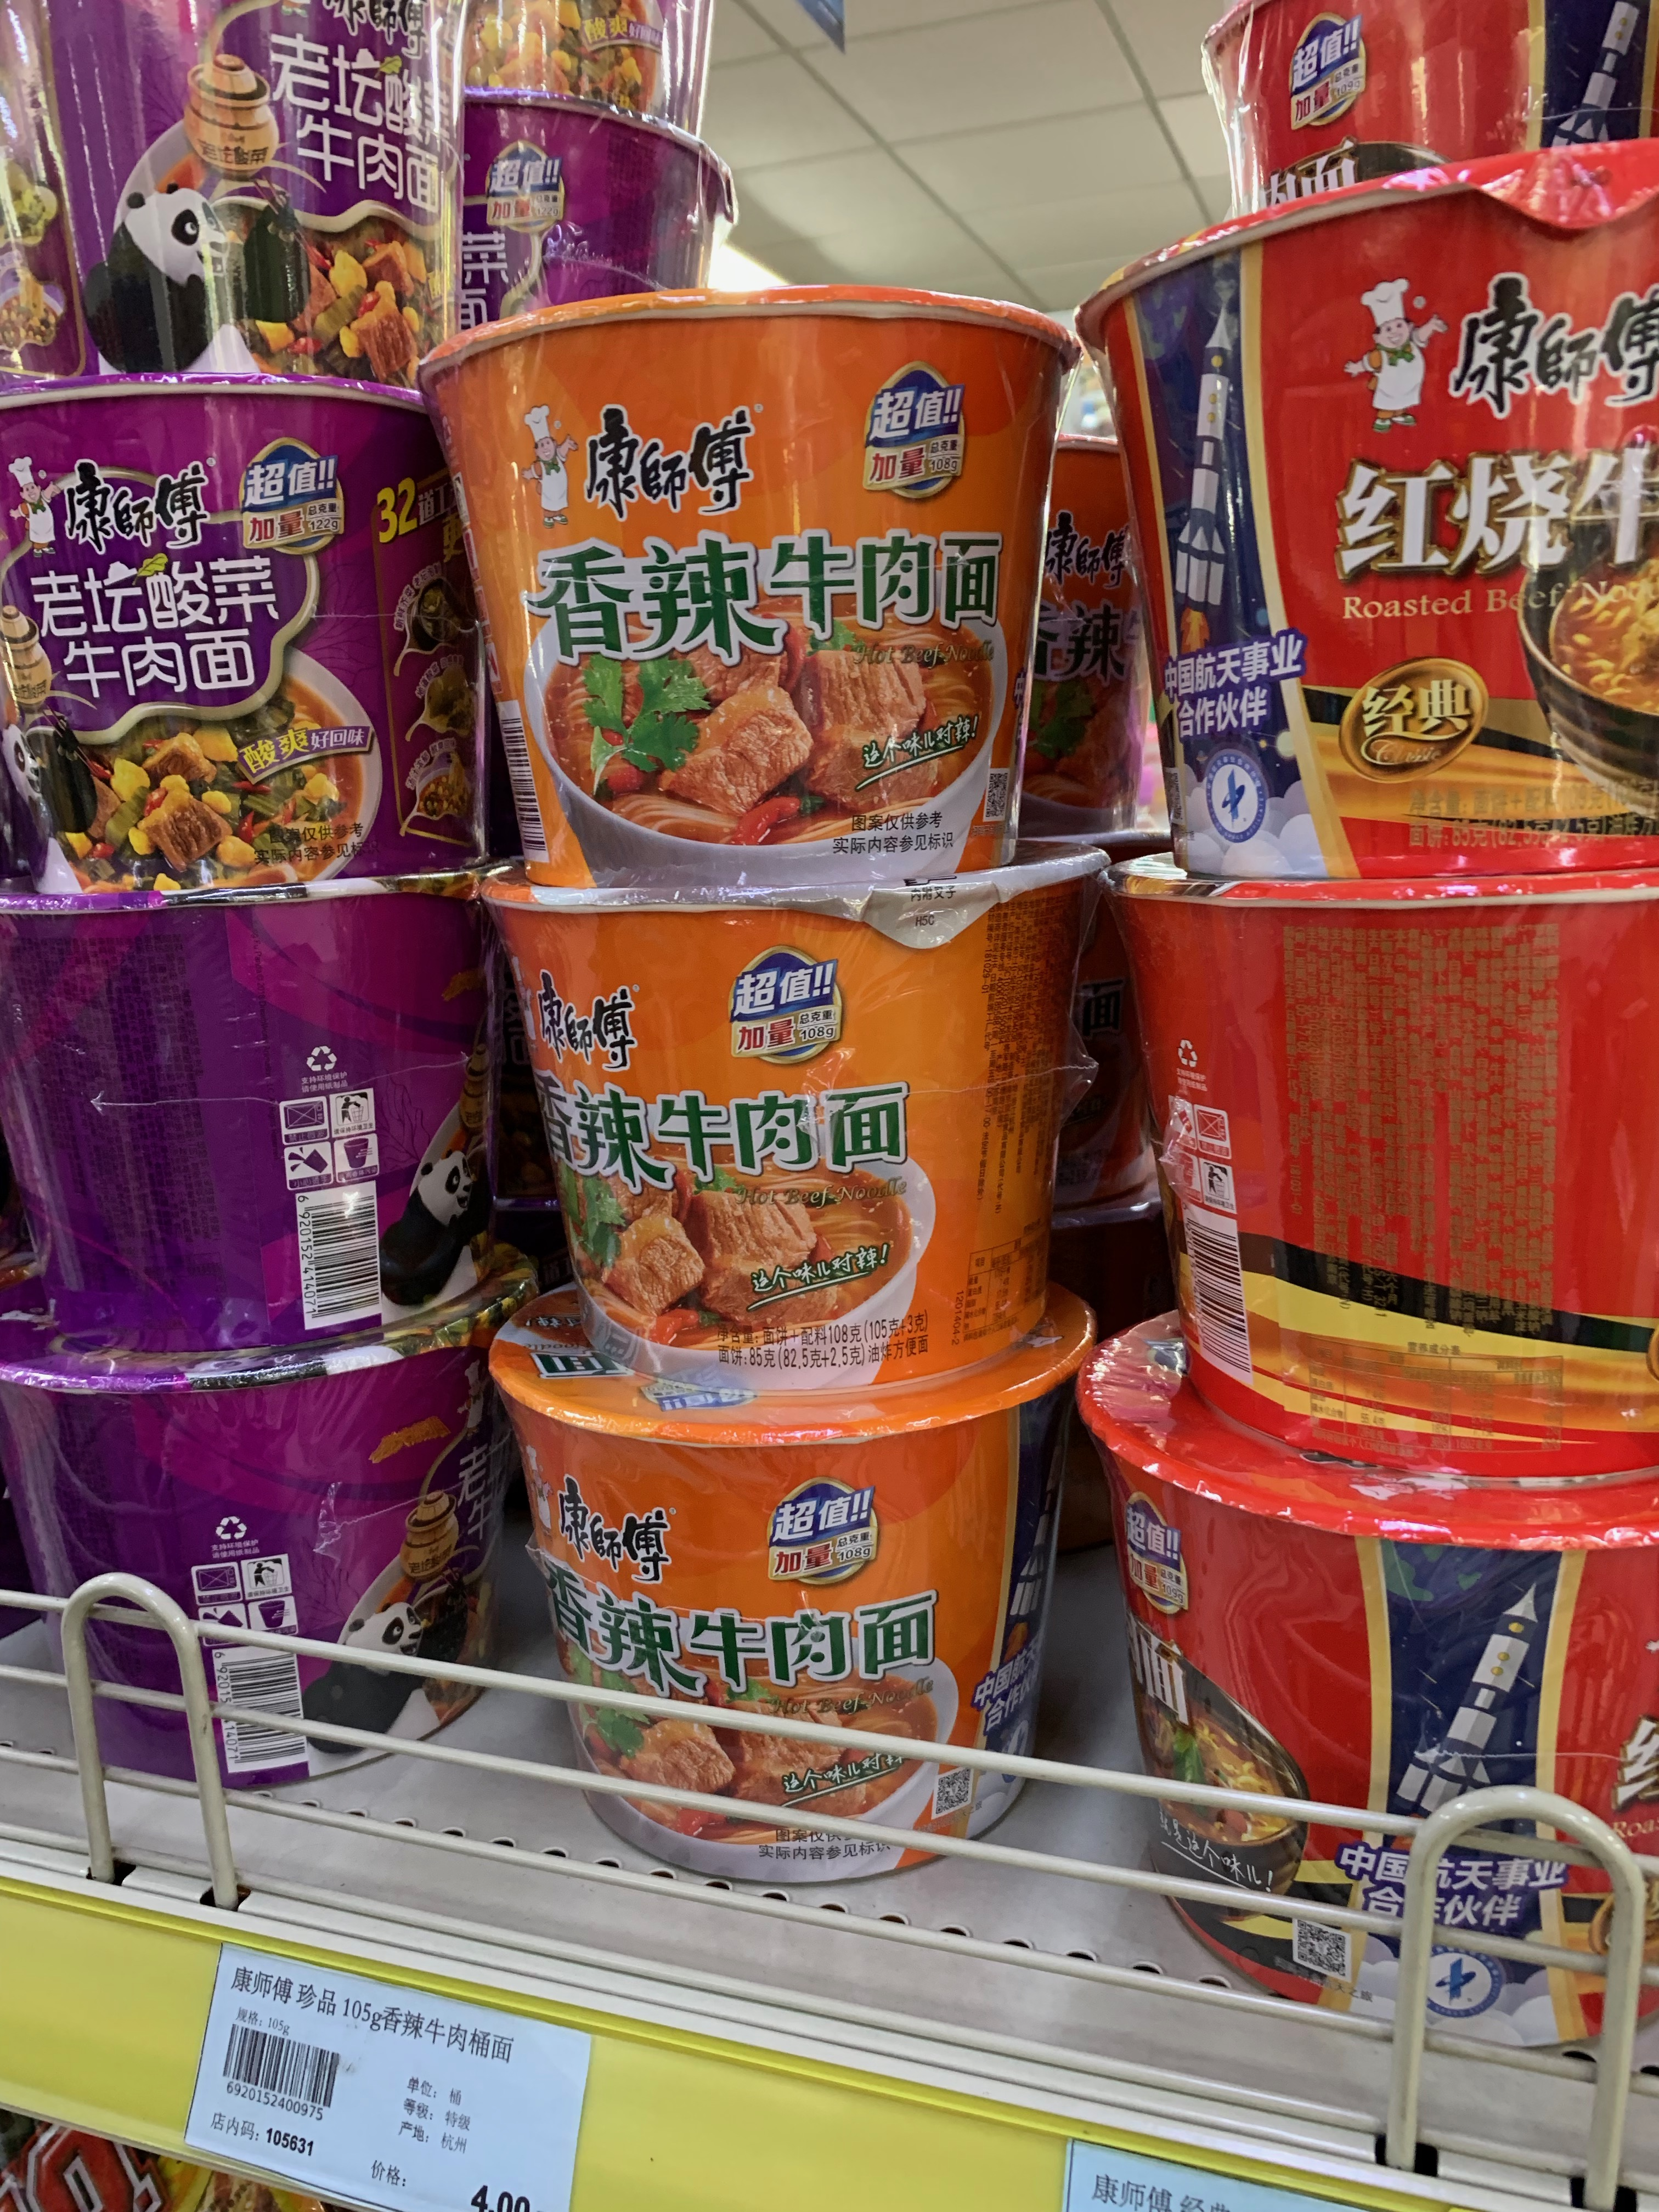xiangla: (415, 286, 1082, 888), (488, 1284, 1098, 1886), (477, 846, 1117, 1395)
